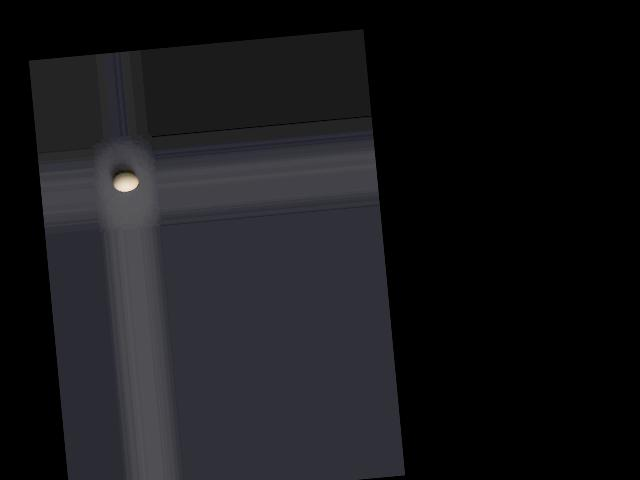egg: (111, 172, 140, 193)
